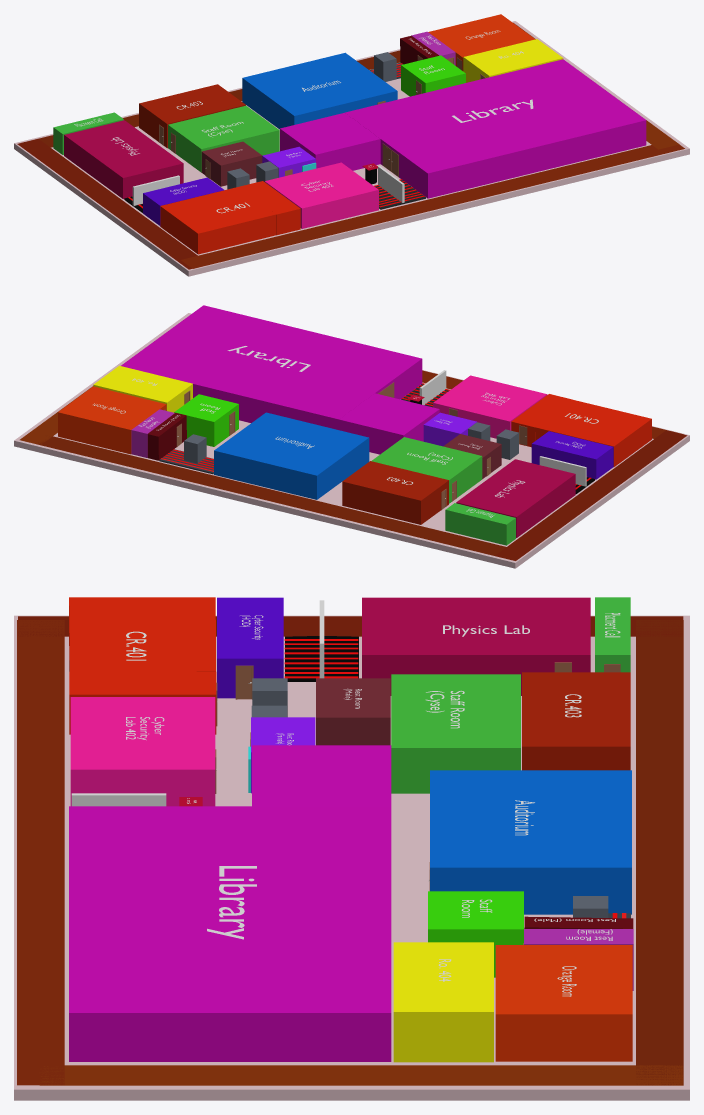
The model's file is map2.glb.
3 views of the same model, one above another, from view 1: azimuth 30°, elevation 25°; view 2: azimuth 150°, elevation 25°; view 3: azimuth 270°, elevation 25° (orthographic). The views are drawn at different scales.
Visible parts, largest first — view 1: Cube.005, Cube, Cube.023, Cube.009, Cube.025, Cube.002, Cube.007, Cube.015, Cube.012, Cube.026, Cube.016, Cube.018 (+14 smaller); view 2: Cube.005, Cube.023, Cube, Cube.024, Cube.009, Cube.002, Cube.016, Cube.018, Cube.026, Cube.007, Cube.012, Cube.015 (+15 smaller); view 3: Cube.005, Cube, Cube.023, Cube.025, Cube.024, Cube.002, Cube.018, Cube.009, Cube.007, Cube.015, Cube.027, Cube.017 (+15 smaller).
Boxes of the visible parts, x1,y1,x2,y2 form: Cube.005: [345, 59, 646, 198]; Cube: [14, 21, 689, 276]; Cube.023: [242, 52, 397, 129]; Cube.009: [160, 181, 300, 254]; Cube.025: [181, 144, 684, 268]; Cube.002: [64, 120, 183, 198]; Cube.007: [264, 162, 378, 228]; Cube.015: [168, 105, 279, 172]; Cube.012: [280, 112, 380, 170]; Cube.026: [17, 139, 197, 269]; Cube.016: [139, 84, 245, 148]; Cube.018: [428, 14, 535, 70]; Cube.005: [121, 305, 422, 429]; Cube.023: [214, 412, 369, 499]; Cube: [14, 313, 689, 568]; Cube.024: [29, 436, 520, 560]; Cube.009: [511, 394, 651, 466]; Cube.002: [456, 459, 575, 537]; Cube.016: [342, 461, 448, 524]; Cube.018: [58, 386, 166, 454]; Cube.026: [495, 430, 687, 560]; Cube.007: [433, 375, 547, 438]; Cube.012: [339, 393, 439, 454]; Cube.015: [371, 437, 482, 503]; Cube.005: [69, 806, 391, 1061]; Cube: [14, 615, 689, 1100]; Cube.023: [430, 770, 631, 914]; Cube.025: [17, 620, 64, 1085]; Cube.024: [636, 620, 683, 1085]; Cube.002: [362, 597, 590, 695]; Cube.018: [495, 945, 632, 1061]; Cube.009: [69, 597, 216, 734]; Cube.007: [70, 697, 215, 806]; Cube.015: [391, 674, 520, 793]; Cube.027: [39, 1065, 683, 1085]; Cube.017: [393, 942, 493, 1062].
Size of the model in its own units: 14.93 by 1.01 by 9.
